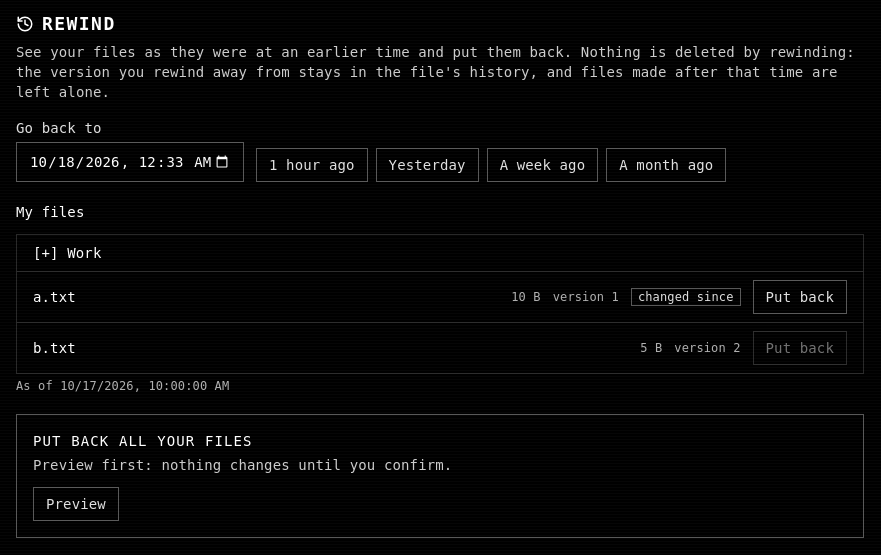
Test: Rewind › refuses a time in the future
Expected: the text "a.txt" is shown, [33,289,76,305]
Replace the text in the field labelled "Go back to" with "2999-01-01T00:00" at (130, 162), box [16,142,244,182]
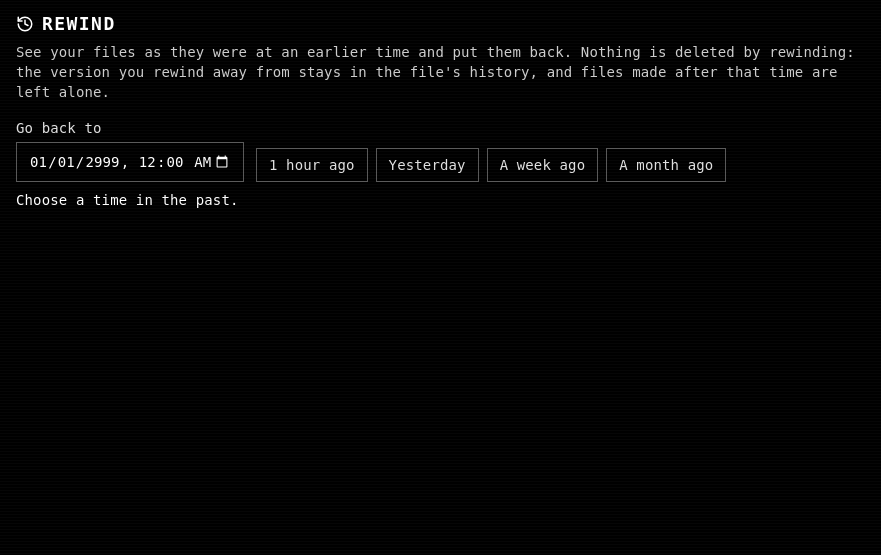
Expected: the text "Choose a time in the past." is shown, [16,192,238,208]
